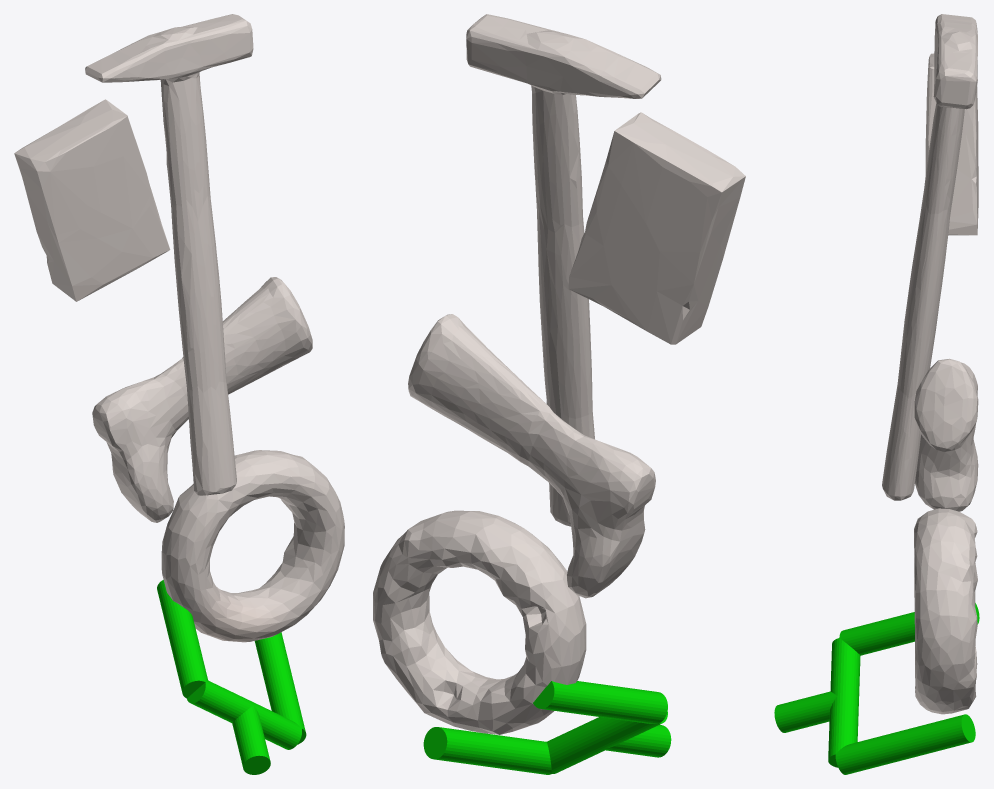
File: round_000_trial_001.obj
The picture shows the model from 3 angles, left to right: view 1: azimuth 30°, elevation 25°; view 2: azimuth 150°, elevation 25°; view 3: azimuth 270°, elevation 25°; orthographic projection. The views are drawn at different scales.
Parts seen in each view (by area): view 1: geometry_0, geometry_1; view 2: geometry_0, geometry_1; view 3: geometry_0, geometry_1.
Part boxes in pixels (<box>): geometry_0: <box>14,14,344,642</box>; geometry_1: <box>157,580,306,774</box>; geometry_0: <box>373,14,745,734</box>; geometry_1: <box>423,681,671,774</box>; geometry_0: <box>882,14,978,714</box>; geometry_1: <box>774,603,979,774</box>.
Bounding box in the file's own units: 0.127 × 0.2697 × 0.071.
